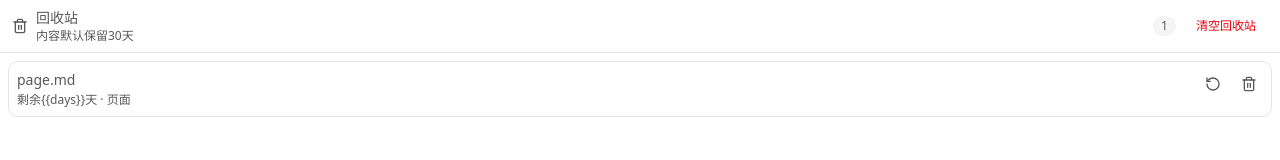
Scenario: TrashPanel › 清空回收站：成功时清空列表与选中态
Click the button "清空回收站": (1226, 26) [1184,12,1268,40]
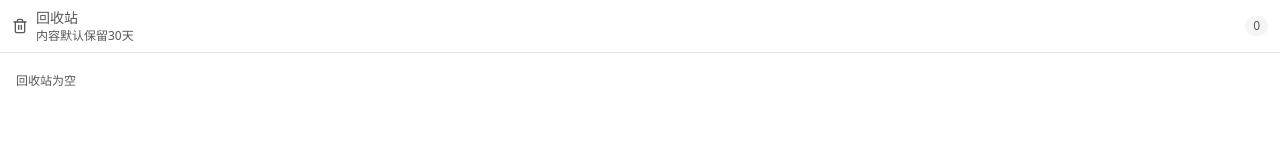
Check: the text "回收站为空" is shown, box [16,72,76,89]
